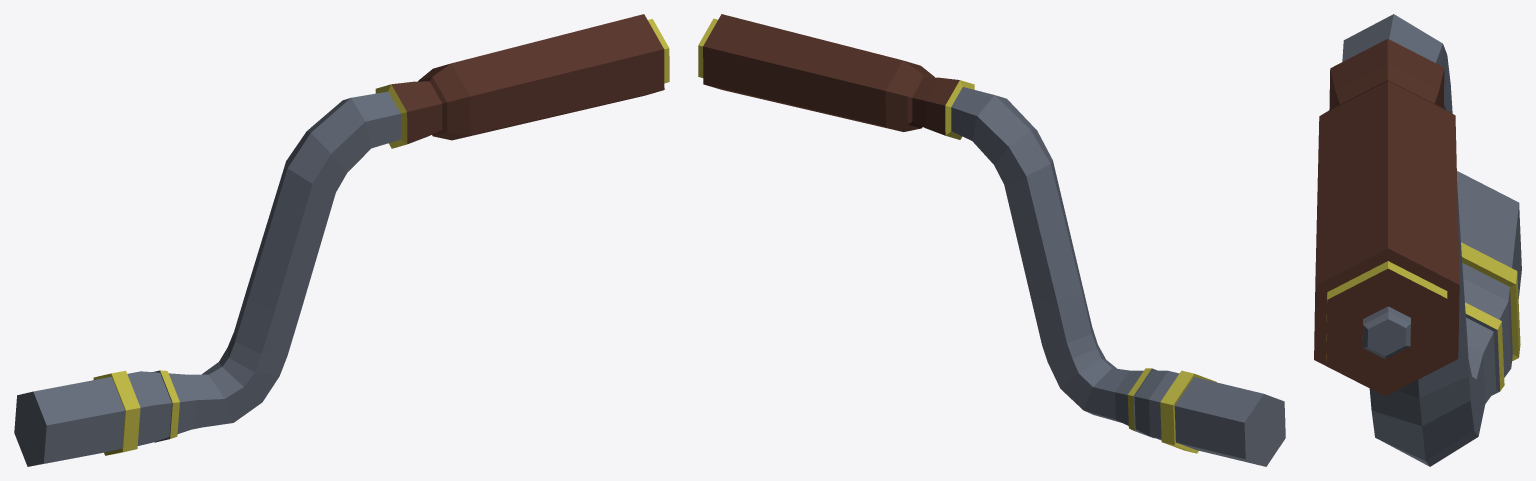
Rendered from MusicBoxLever.fbx.
3 views of the same model, side by side, from view 1: azimuth 30°, elevation 25°; view 2: azimuth 150°, elevation 25°; view 3: azimuth 270°, elevation 25° (orthographic). The views are drawn at different scales.
Parts seen in each view (by area): view 1: MusicBoxLever; view 2: MusicBoxLever; view 3: MusicBoxLever.
Part boxes in pixels (<box>): MusicBoxLever: <box>14,14,669,466</box>; MusicBoxLever: <box>698,14,1285,466</box>; MusicBoxLever: <box>1314,14,1521,466</box>.
Size of the model in its own units: 0.1473 by 0.0747 by 0.0236.
